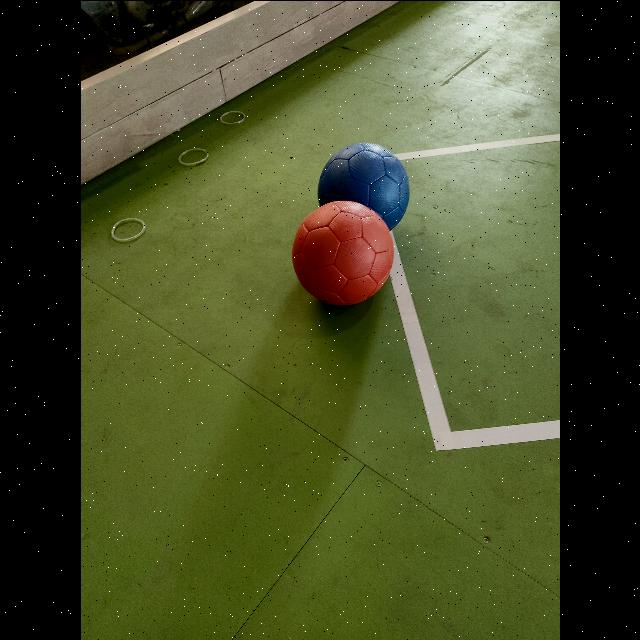B: (318, 142, 409, 228)
R: (292, 199, 394, 303)
